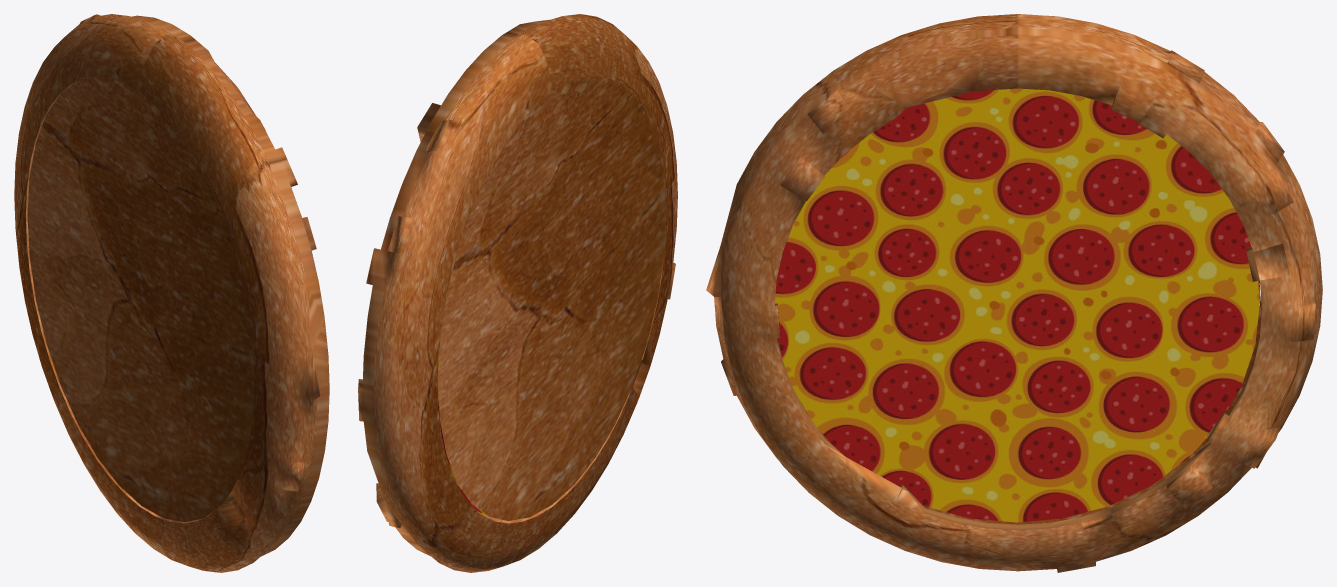
Rendered from Pizza.glb.
3 renders of one model, left to right at view 1: azimuth 30°, elevation 25°; view 2: azimuth 150°, elevation 25°; view 3: azimuth 270°, elevation 25°, orthographic. The views are drawn at different scales.
Parts seen in each view (by area): view 1: Cylinder, Torus; view 2: Cylinder, Torus; view 3: Cylinder, Torus.
Boxes of the visible parts, x1,y1,x2,y2 form: Cylinder: [27, 76, 254, 522]; Torus: [14, 14, 329, 572]; Cylinder: [437, 76, 666, 521]; Torus: [358, 14, 677, 572]; Cylinder: [775, 88, 1259, 522]; Torus: [706, 14, 1322, 572].
Bounding box in the file's own units: 0.0952 × 0.6395 × 0.6473.
Materials: 2 (2 with a texture image).
